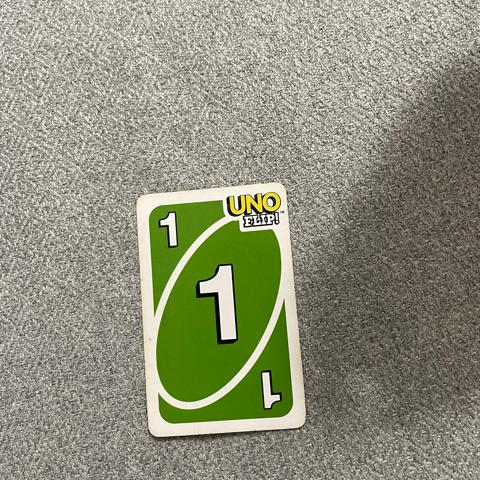lgreen-1: (146, 204, 194, 258)
